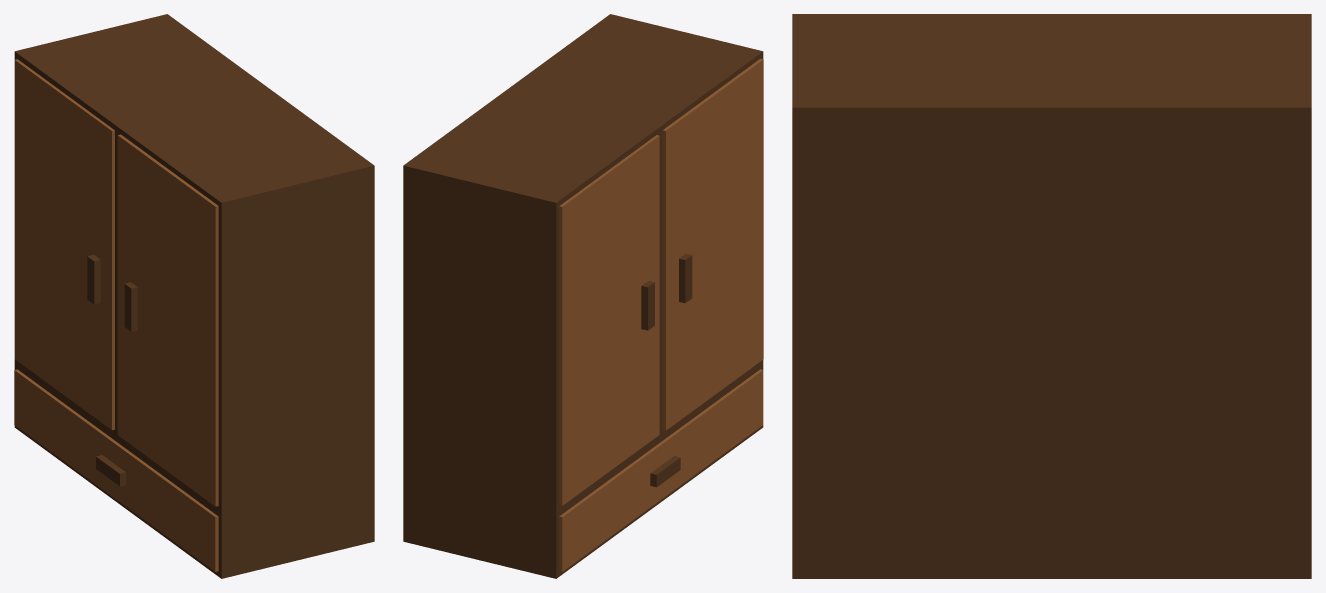
The model's file is Armario.fbx.
The picture shows the model from 3 angles, left to right: view 1: azimuth 30°, elevation 25°; view 2: azimuth 150°, elevation 25°; view 3: azimuth 270°, elevation 25°; orthographic projection. The views are drawn at different scales.
Visible parts, largest first — view 1: Cube.006; view 2: Cube.006; view 3: Cube.006.
Boxes of the visible parts, x1,y1,x2,y2 form: Cube.006: [14, 14, 374, 578]; Cube.006: [403, 14, 763, 578]; Cube.006: [792, 14, 1311, 578].
Size of the model in its own units: 612 by 1355 by 1352.
